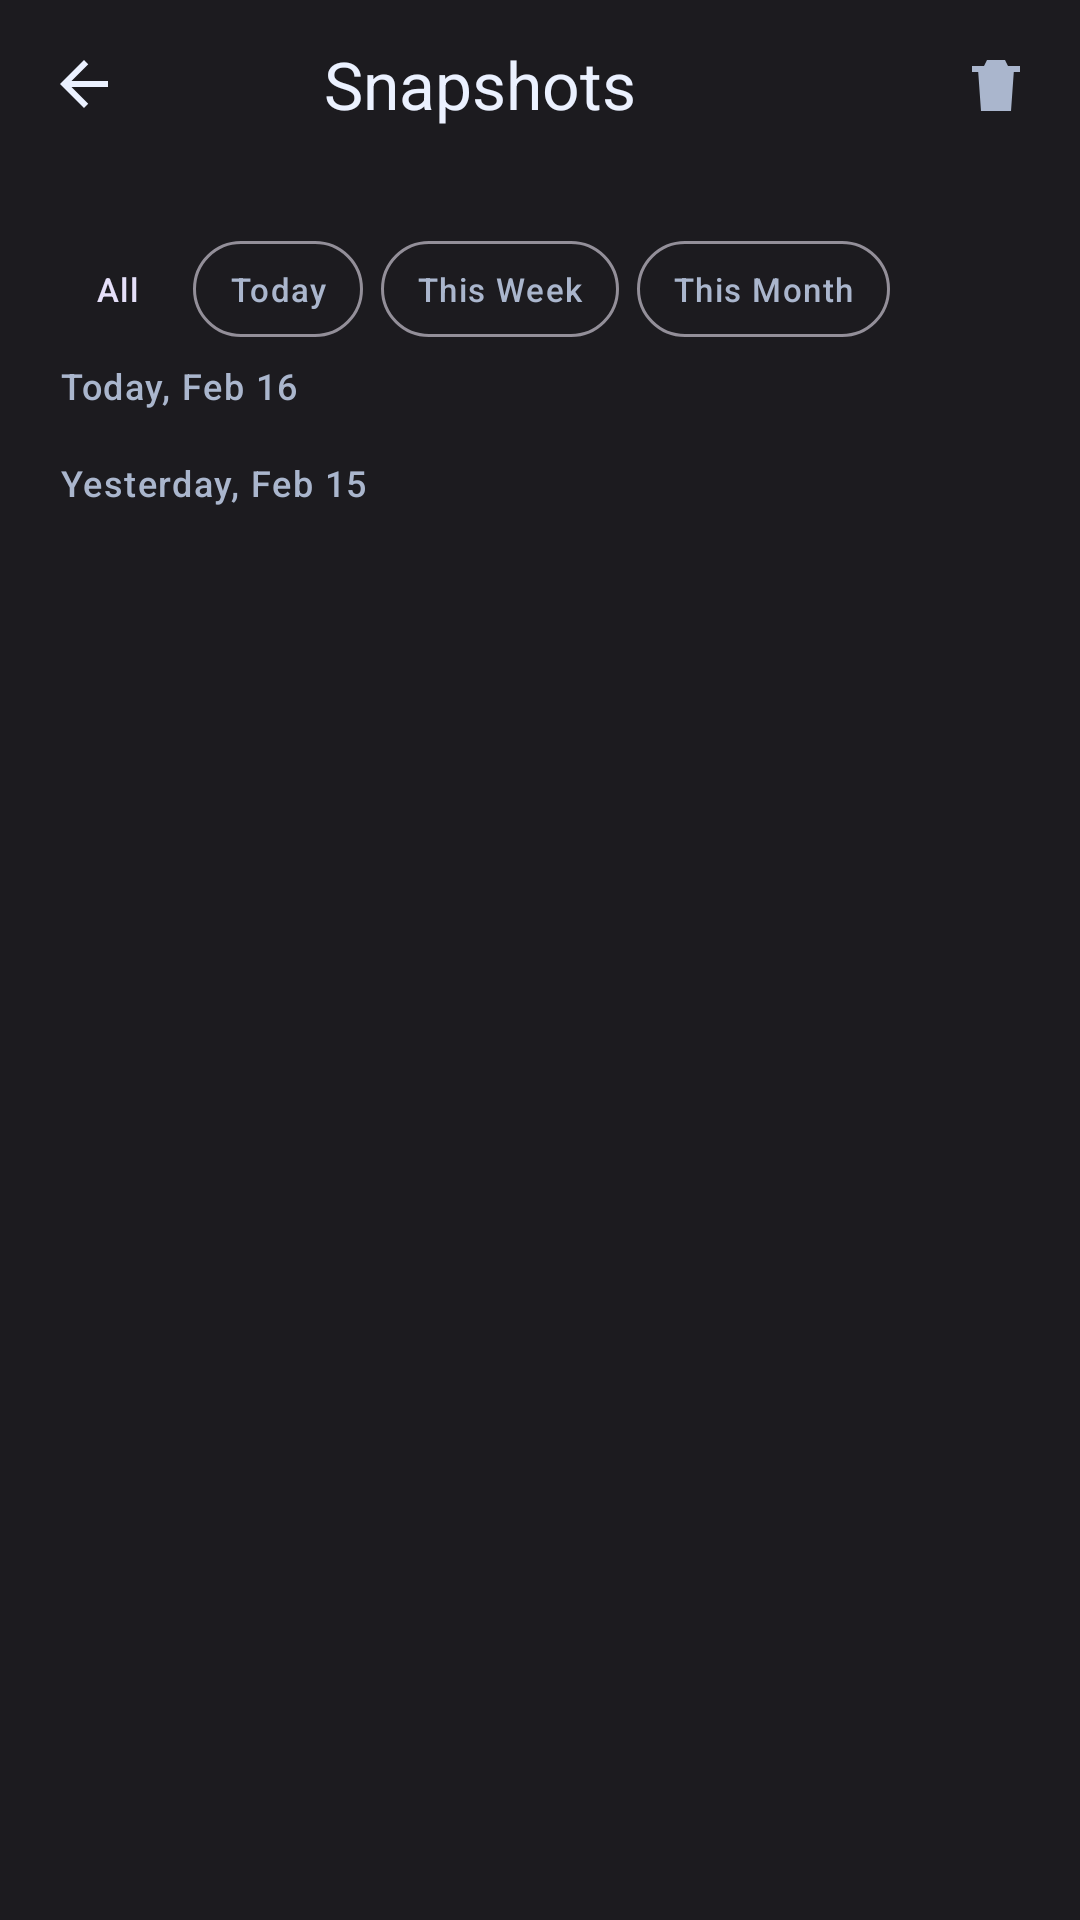

Screen size 1080px x 1920px. Icon name, then its center in pixels as (x,y):
Back: (84,84)
Delete: (996,85)
